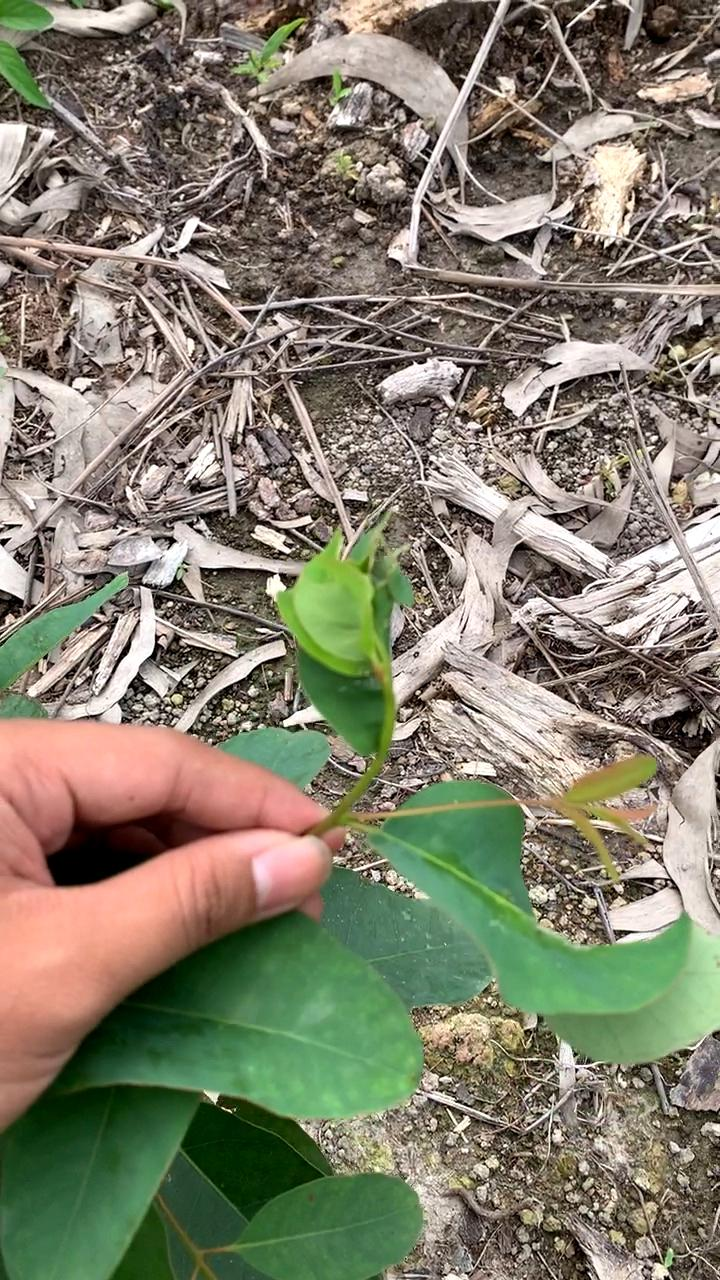Leaf Roller - Leaf: (278, 548, 443, 779)
